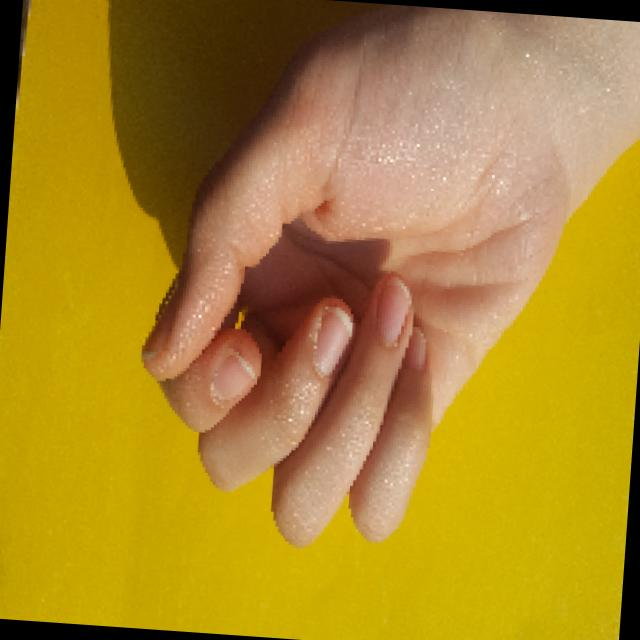Nail: (313, 306, 352, 374), (376, 275, 409, 344), (209, 353, 256, 400), (404, 327, 425, 371)
